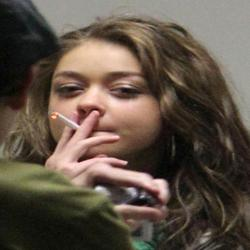smoking: (49, 110, 117, 138)
